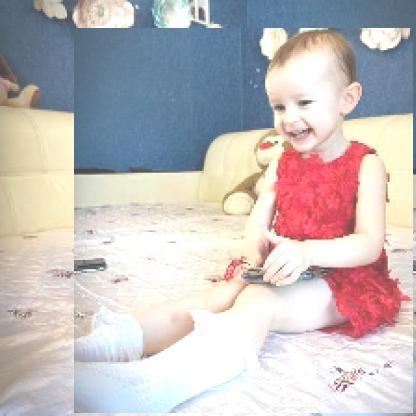child: (75, 29, 415, 415)
